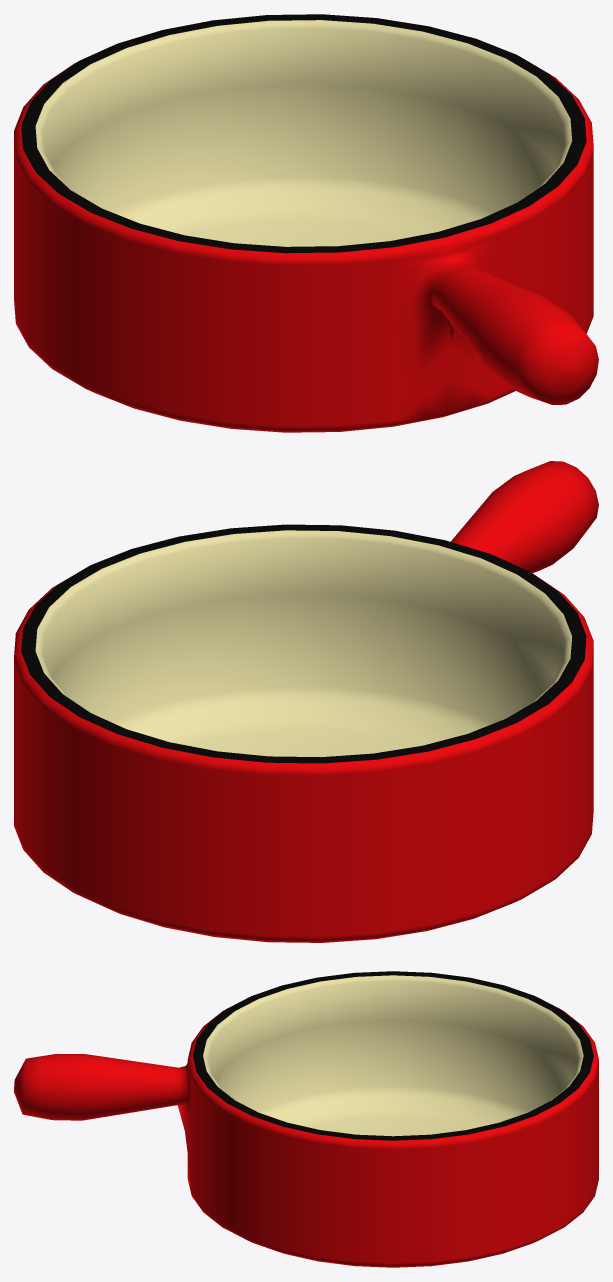
The model's file is SM_Pot.fbx.
3 renders of one model, top to bottom at view 1: azimuth 30°, elevation 25°; view 2: azimuth 150°, elevation 25°; view 3: azimuth 270°, elevation 25°, orthographic. The views are drawn at different scales.
Parts seen in each view (by area): view 1: SM_Pot; view 2: SM_Pot; view 3: SM_Pot.
Boxes of the visible parts, left/top/right/bottom form: SM_Pot: left=14, top=14, right=598, bottom=432; SM_Pot: left=14, top=461, right=598, bottom=942; SM_Pot: left=14, top=971, right=598, bottom=1267.
Bounding box in the file's own units: 200 × 71.82 × 284.
